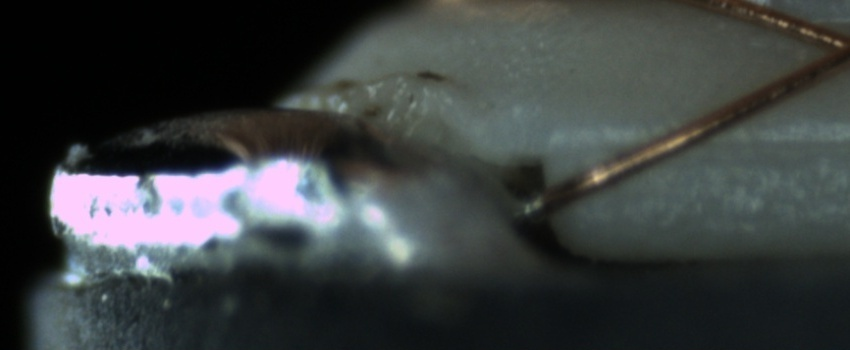CL: (798, 13, 850, 79)
DL: (603, 108, 849, 177)
TS: (514, 189, 546, 222)
